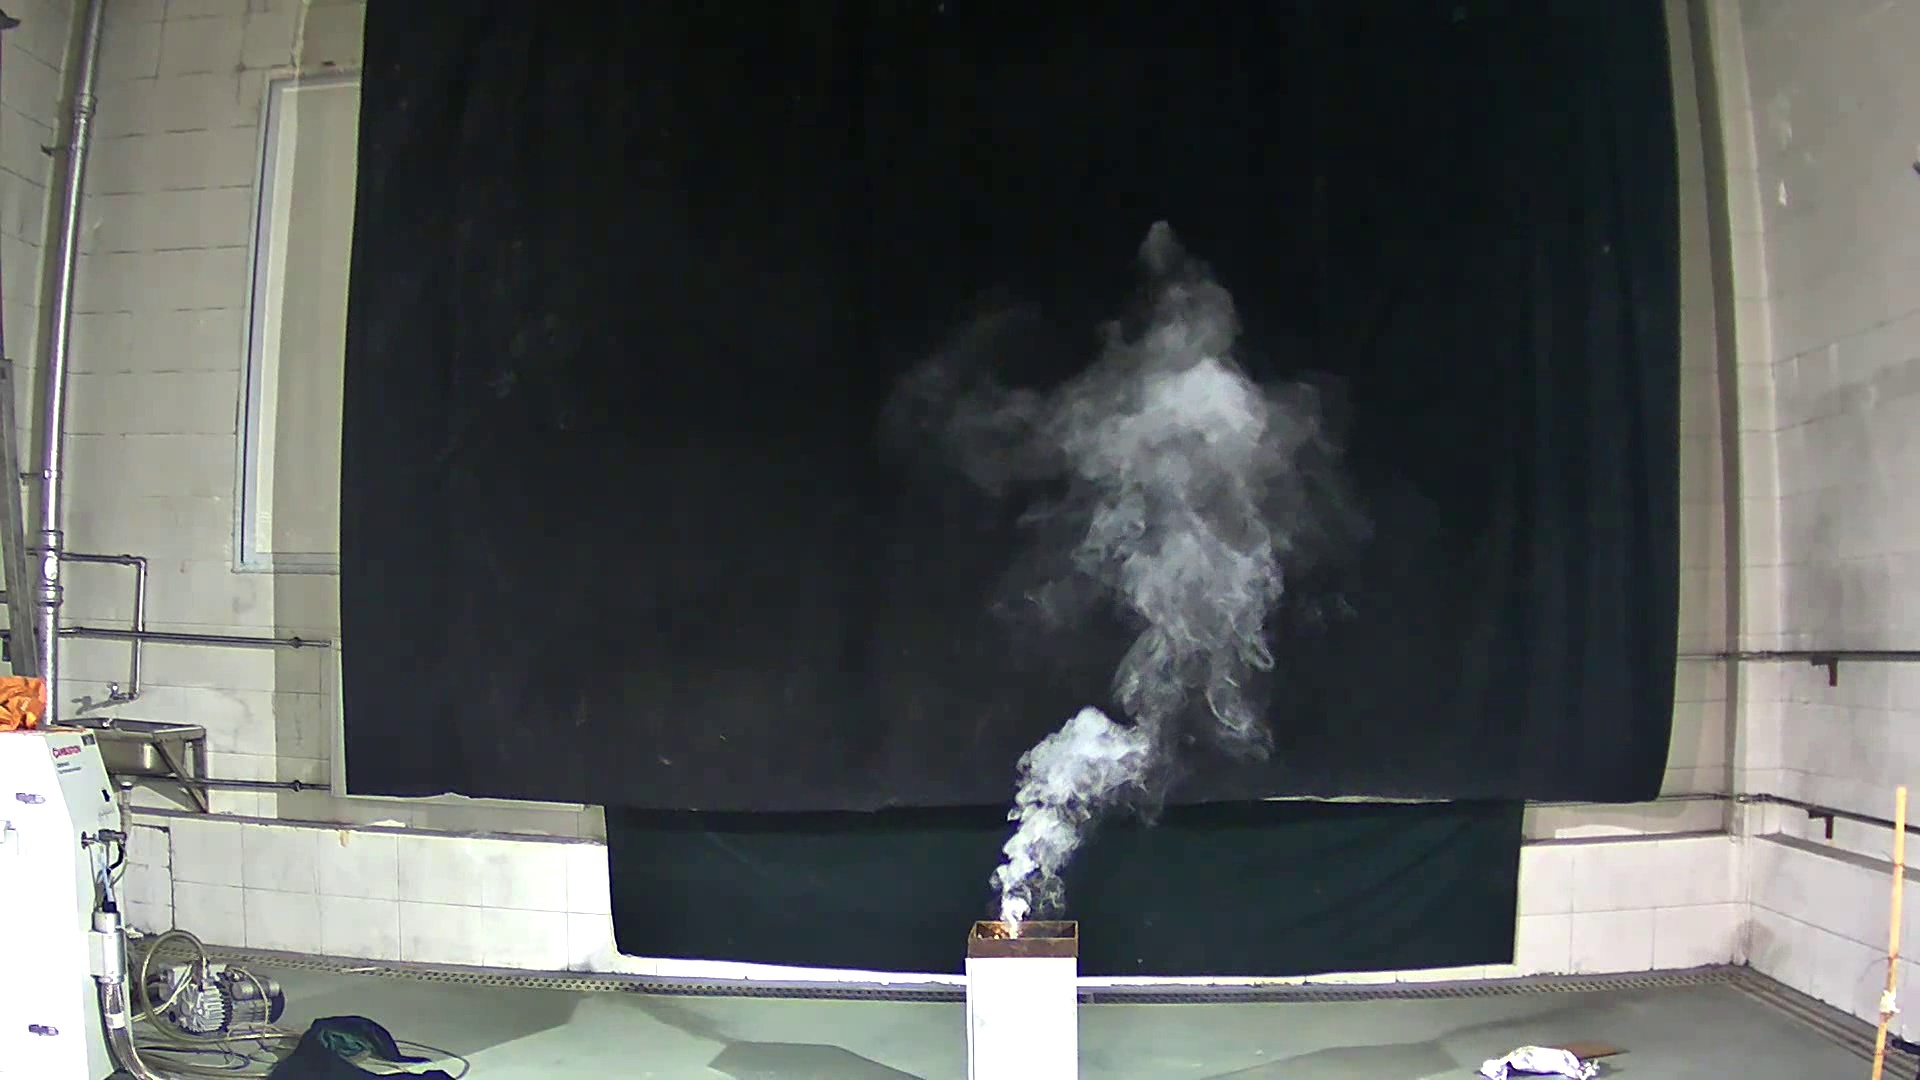smoke: (884, 199, 1342, 924)
